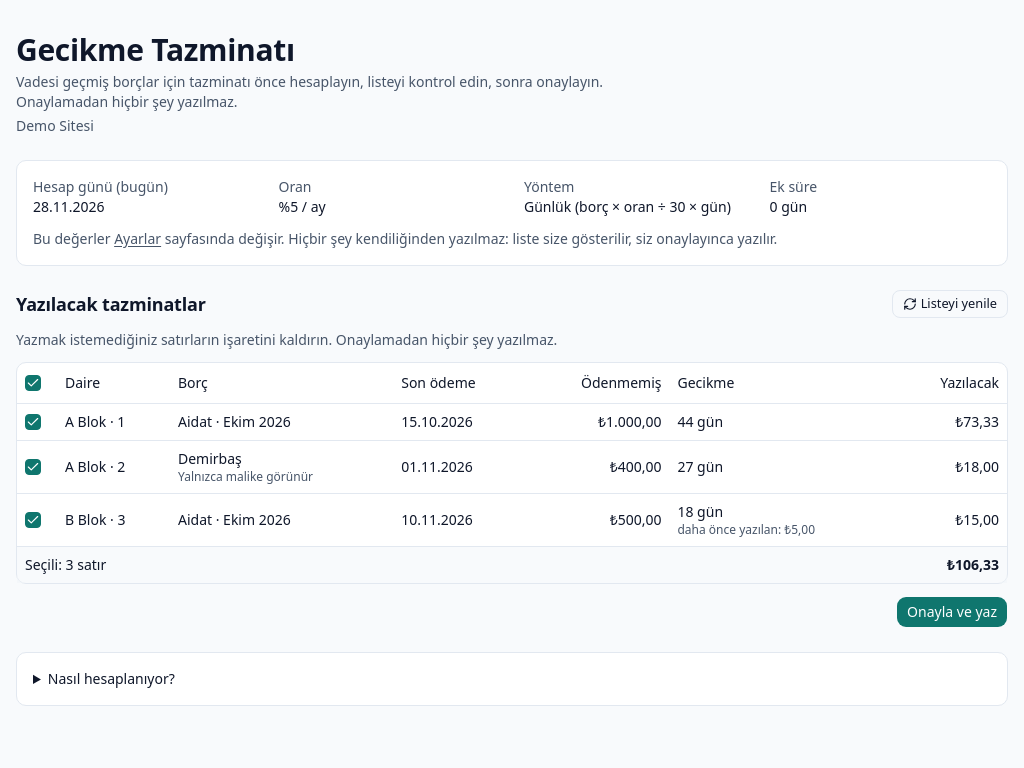
Gecikme Tazminatı: the list › unticks everything with the select-all box, disables the button, and ticks everything again
This screenshot has width=1024, height=768.
expect the text "A Blok · 1" is shown: met, box [57, 403, 170, 440]
What coordinates should you click on to do the following:
click the checkbox named "Tüm satırları seç"
I would click on:
 (33, 383)
Its box is [25, 375, 41, 391].
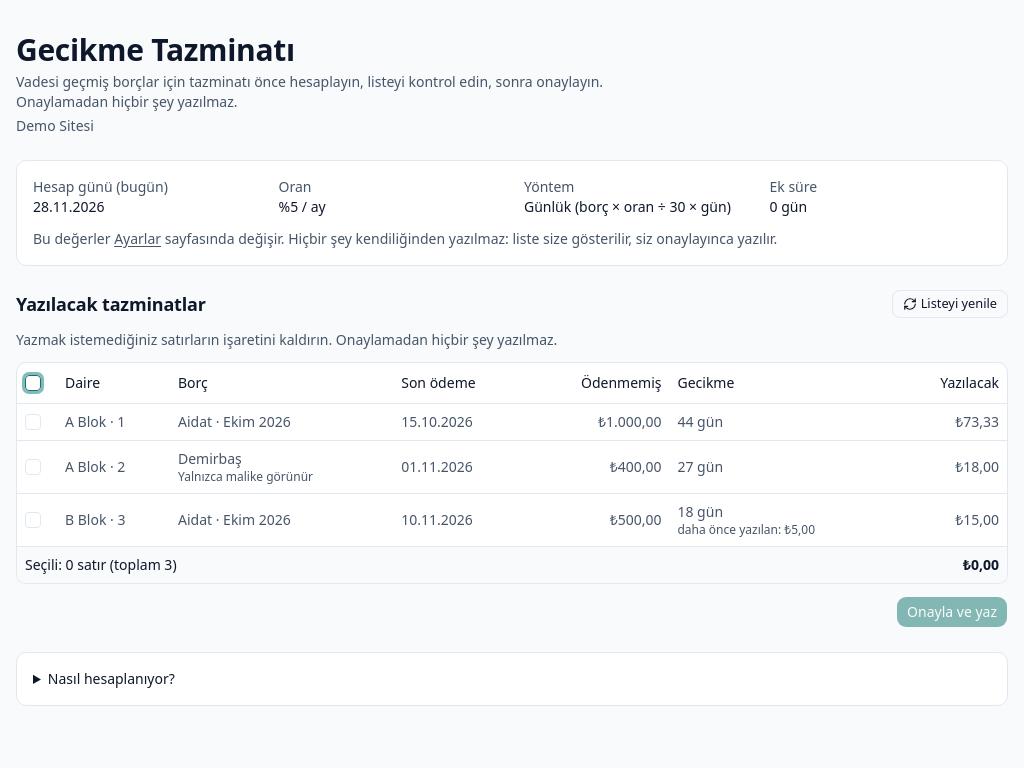
expect the text "Seçili: 0 satır (toplam 3)" is shown: met, box [17, 546, 896, 582]
expect the button "Onayla ve yaz" is disabled: met, box [896, 596, 1008, 628]
What coordinates should you click on to do the following:
click the checkbox named "Tüm satırları seç"
I would click on:
 (33, 383)
Its box is [25, 375, 41, 391].
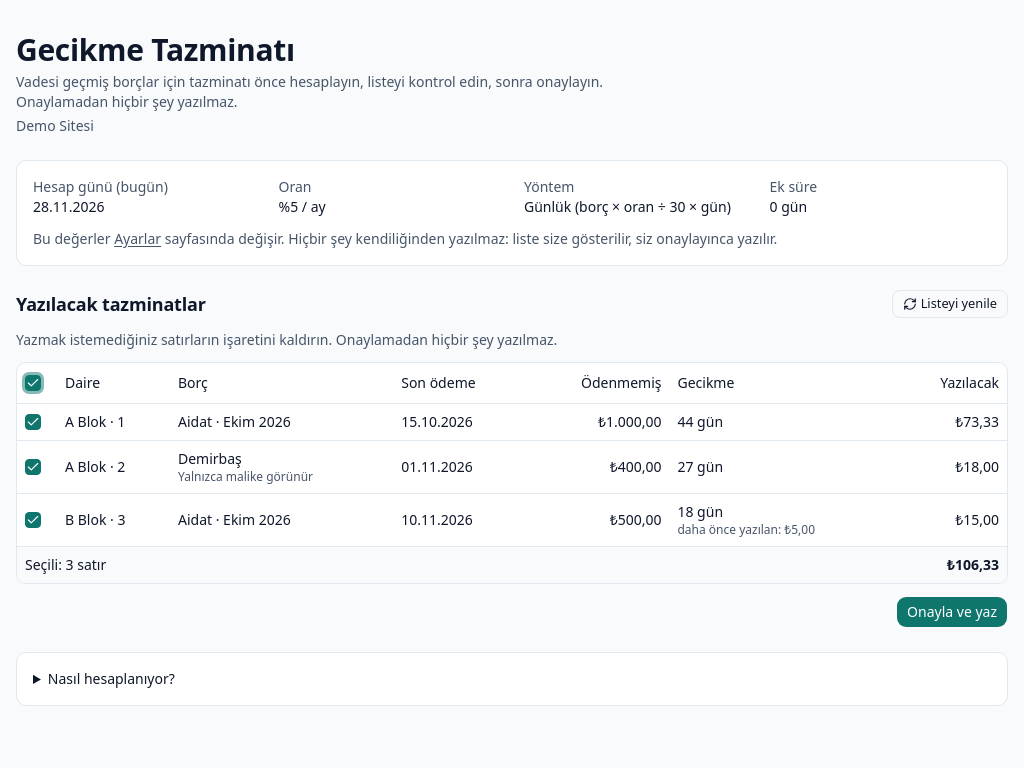
expect the text "Seçili: 3 satır" is shown: met, box [17, 546, 896, 582]
expect the button "Onayla ve yaz" is enabled: met, box [896, 596, 1008, 628]
